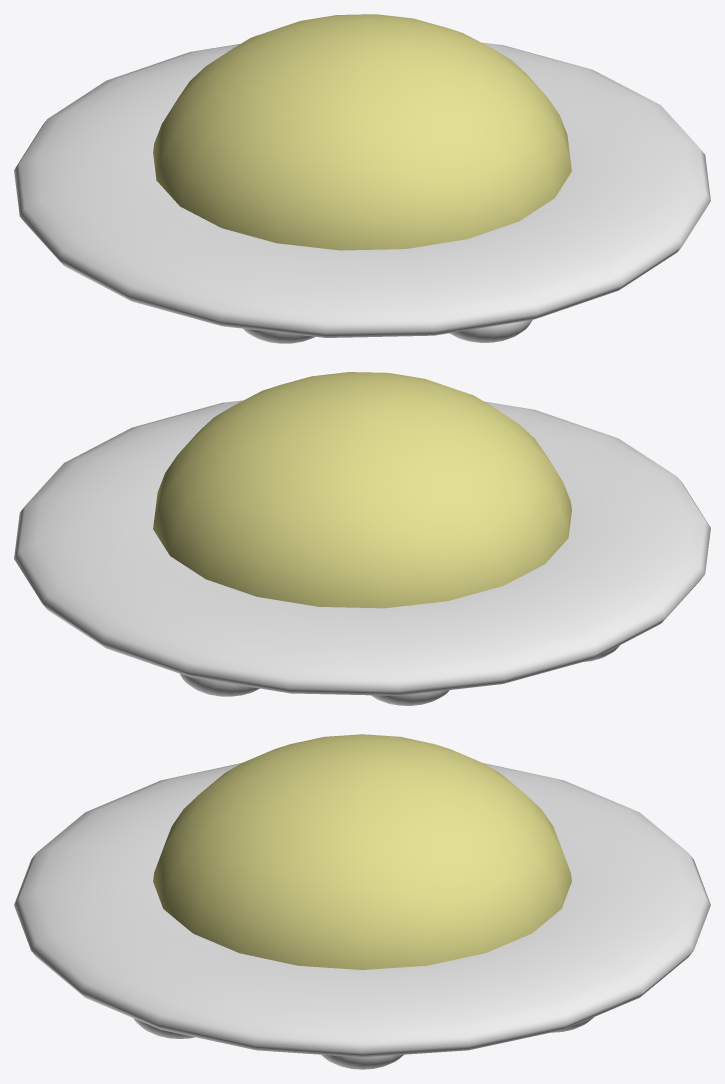
The model's file is UFO.fbx.
The picture shows the model from 3 angles, top to bottom: view 1: azimuth 30°, elevation 25°; view 2: azimuth 150°, elevation 25°; view 3: azimuth 270°, elevation 25°; orthographic projection.
Parts seen in each view (by area): view 1: pTorus1, pSphere1, pSphere3, pSphere8; view 2: pTorus1, pSphere1, pSphere2, pSphere9; view 3: pTorus1, pSphere1, pSphere4.
Part boxes in pixels (bbox=[...]): pTorus1: bbox=[14, 42, 710, 337]; pSphere1: bbox=[153, 14, 571, 250]; pSphere3: bbox=[449, 319, 532, 342]; pSphere8: bbox=[243, 328, 314, 343]; pTorus1: bbox=[14, 400, 710, 695]; pSphere1: bbox=[153, 372, 571, 608]; pSphere2: bbox=[180, 674, 259, 696]; pSphere9: bbox=[371, 690, 449, 705]; pTorus1: bbox=[14, 763, 710, 1057]; pSphere1: bbox=[153, 734, 571, 969]; pSphere4: bbox=[321, 1054, 403, 1069].
Size of the model in its own units: 10.96 by 4.57 by 10.96.
